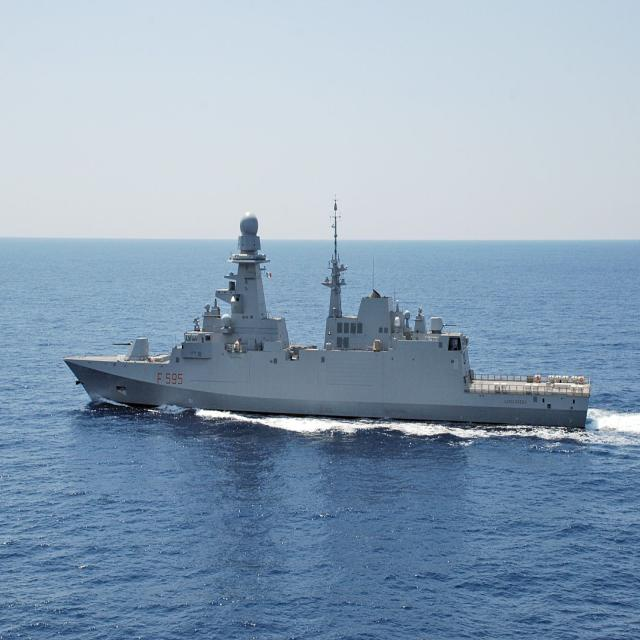navalvessels: (62, 196, 591, 468)
